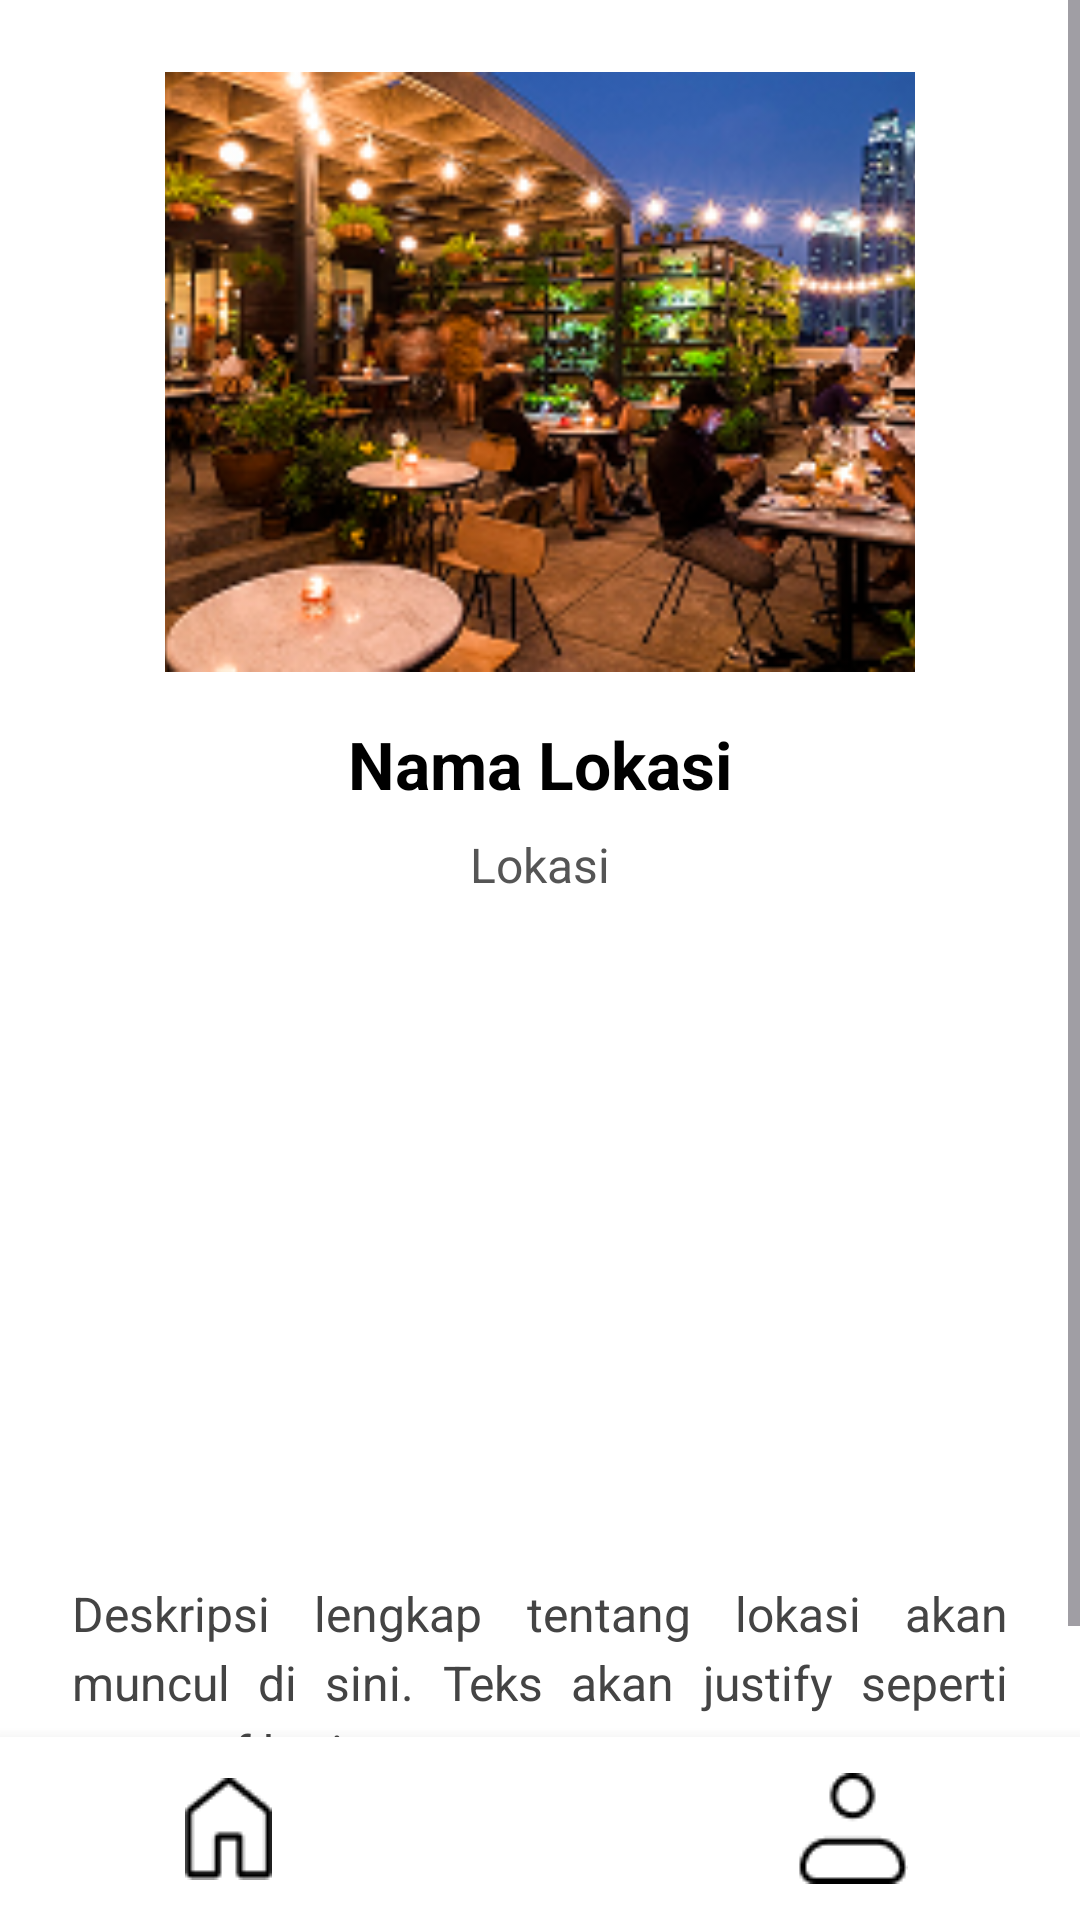

Icons on this 1080w x 1920h Android screen, each with the point to tap as (x,y):
Home: (228,1829)
Profile: (853,1828)
